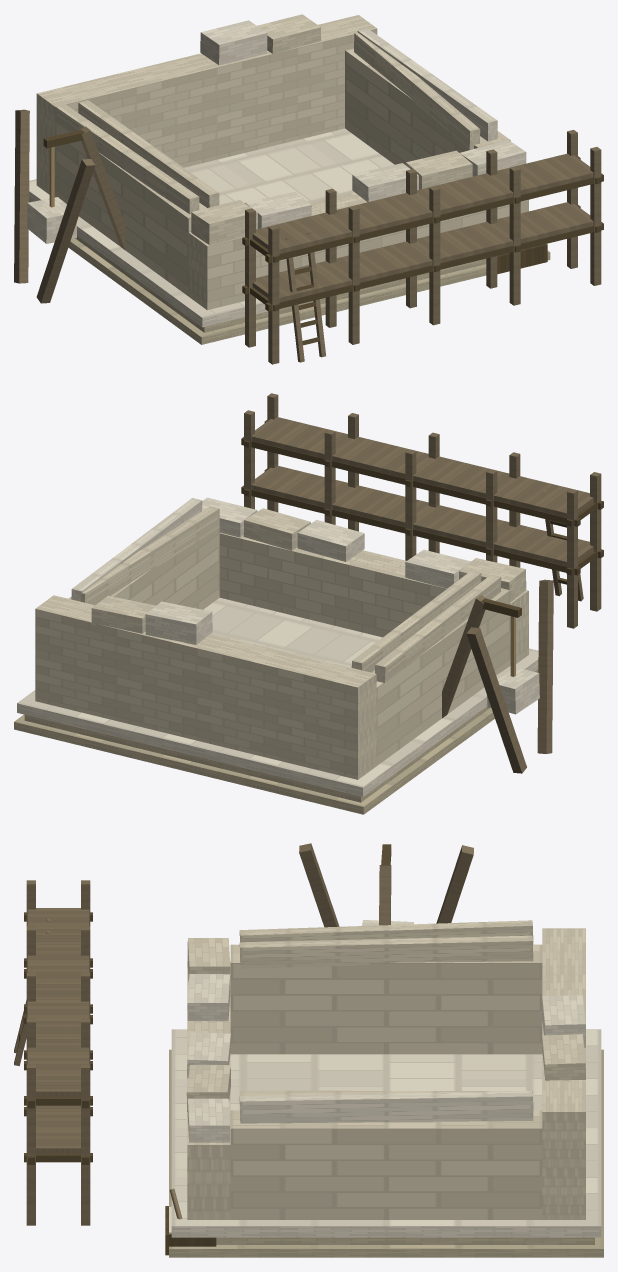
The model's file is pol-8-construction.glb.
The picture shows the model from 3 angles, top to bottom: view 1: azimuth 30°, elevation 25°; view 2: azimuth 150°, elevation 25°; view 3: azimuth 270°, elevation 25°; orthographic projection. The views are drawn at different scales.
Size of the model in its own units: 16.03 by 5.6 by 16.28.
Materials: 15 (12 with a texture image).
